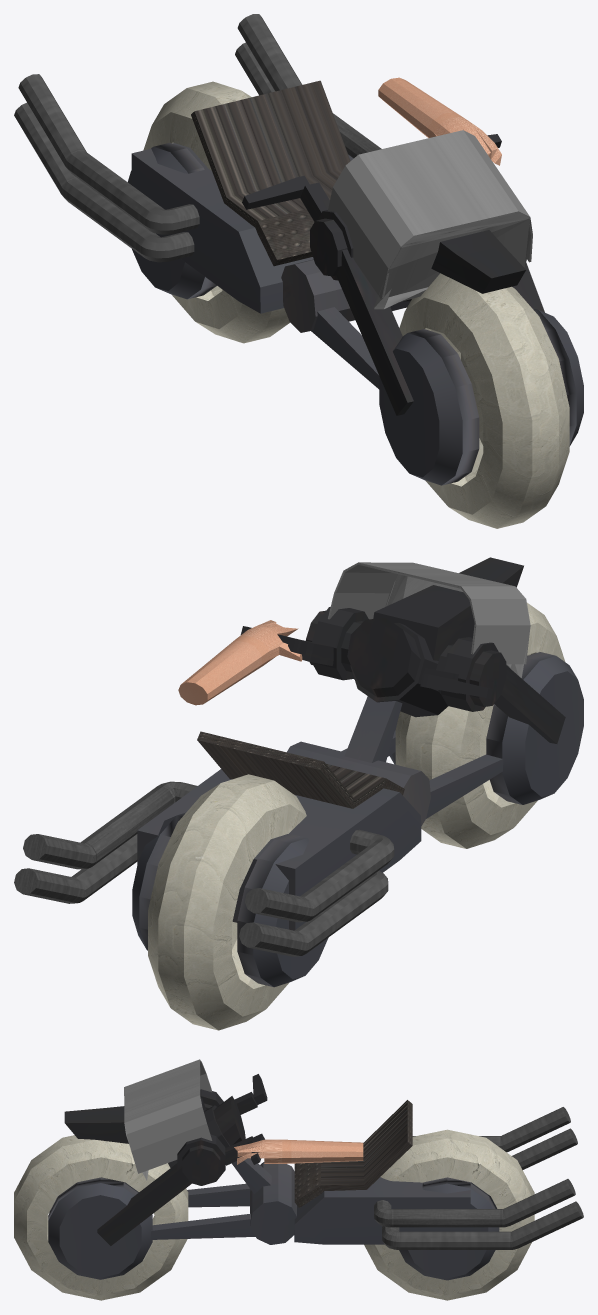
The model's file is Bike Model WIth Hand.fbx.
The picture shows the model from 3 angles, top to bottom: view 1: azimuth 30°, elevation 25°; view 2: azimuth 150°, elevation 25°; view 3: azimuth 270°, elevation 25°; orthographic projection. The views are drawn at different scales.
Parts seen in each view (by area): view 1: pTorus4, pCube14, pCube12, pCylinder4, pCube11, pTorus6, pCylinder15, pCylinder18, pCube13, pCube9, pCylinder5, pCylinder19 (+7 smaller); view 2: pTorus6, pTorus4, pCube11, pCube14, pCylinder4, pCylinder6, pCube12, pCube9, pCylinder3, pCylinder15, pCylinder17, pCylinder19 (+11 smaller); view 3: pTorus4, pTorus6, pCylinder1, pCube14, pCube11, pCube12, pCylinder17, pCylinder16, pCylinder2, pCylinder5, pCylinder19, pCube4 (+10 smaller).
Boxes of the visible parts, box(x1,y1,x2,y2) form: pTorus4: box(399, 273, 569, 528); pCube14: box(328, 130, 532, 309); pCube12: box(191, 80, 350, 266); pCylinder4: box(379, 329, 479, 485); pCube11: box(131, 143, 353, 313); pTorus6: box(143, 81, 289, 343); pCylinder15: box(18, 74, 199, 234); pCylinder18: box(14, 102, 194, 262); pCube13: box(336, 249, 413, 415); pCube9: box(431, 230, 525, 293); pCylinder5: box(281, 259, 410, 332); pCylinder19: box(378, 77, 501, 165); pTorus6: box(148, 774, 306, 1030); pTorus4: box(395, 602, 565, 848); pCube11: box(137, 769, 421, 930); pCube14: box(328, 562, 530, 677); pCylinder4: box(486, 652, 583, 804); pCylinder6: box(347, 618, 448, 717); pCube12: box(197, 731, 404, 808); pCube9: box(373, 557, 523, 660); pCylinder3: box(237, 834, 328, 987); pCylinder15: box(245, 829, 394, 922); pCylinder17: box(23, 781, 197, 869); pCylinder19: box(178, 620, 302, 705); pTorus4: box(14, 1135, 188, 1300); pTorus6: box(364, 1129, 534, 1300); pCylinder1: box(48, 1177, 152, 1279); pCube14: box(124, 1059, 212, 1180); pCube11: box(294, 1177, 470, 1244); pCube12: box(294, 1100, 412, 1207); pCylinder17: box(374, 1179, 575, 1227); pCylinder16: box(382, 1201, 583, 1249); pCylinder2: box(399, 1178, 499, 1280); pCylinder5: box(250, 1162, 296, 1244); pCylinder19: box(234, 1139, 363, 1164); pCube4: box(97, 1163, 193, 1245).
Bounding box in the file's own units: 0.5458 × 0.6646 × 1.56.
7 materials, 7 textured.
